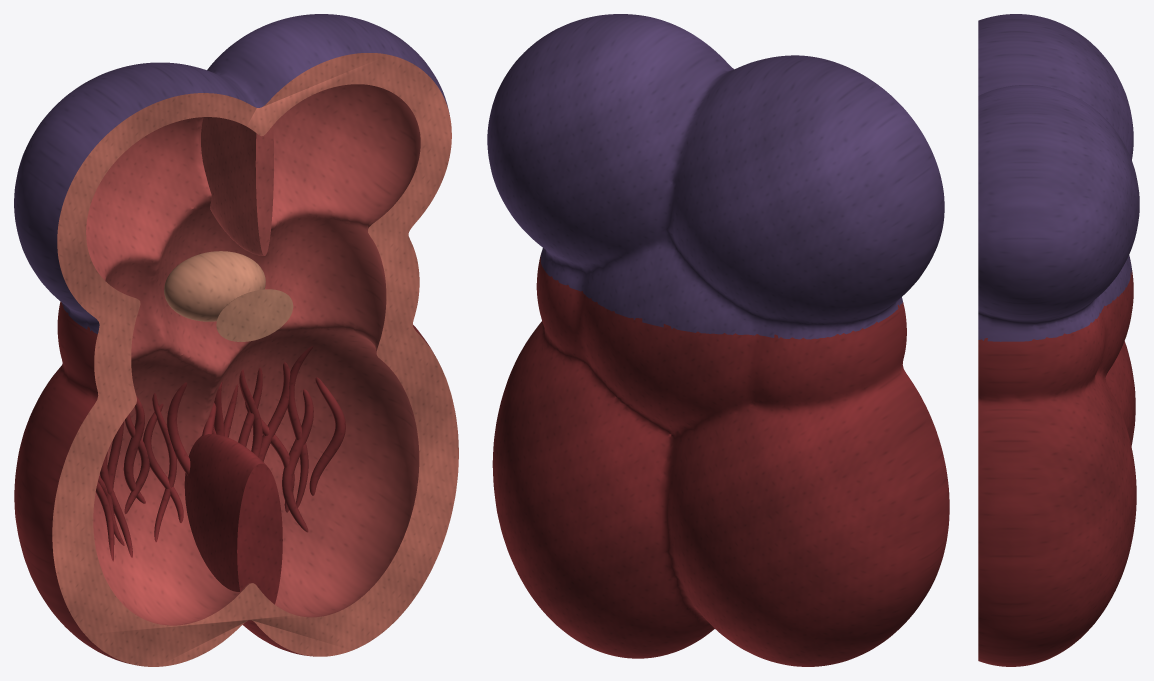
File: HeartPartition_01_Week04_EarlyPartitioning_Cutaway.glb
3 renders of one model, left to right at view 1: azimuth 30°, elevation 25°; view 2: azimuth 150°, elevation 25°; view 3: azimuth 270°, elevation 25°, orthographic. The views are drawn at different scales.
Parts seen in each view (by area): view 1: VentricularWall_Posterior, AtrialWall_Posterior, MuscularInterventricularSeptum, SeptumPrimum, DorsalEndocardialCushion, VentralEndocardialCushion, LV_Trabecula_11, LV_Trabecula_06, LV_Trabecula_05, RV_Trabecula_11, RV_Trabecula_10, RV_Trabecula_05 (+6 smaller); view 2: VentricularWall_Posterior, AtrialWall_Posterior; view 3: VentricularWall_Posterior, AtrialWall_Posterior.
Part boxes in pixels (<box>): VentricularWall_Posterior: <box>14,236,458,666</box>; AtrialWall_Posterior: <box>14,14,451,336</box>; MuscularInterventricularSeptum: <box>184,434,282,604</box>; SeptumPrimum: <box>201,117,273,255</box>; DorsalEndocardialCushion: <box>164,251,265,321</box>; VentralEndocardialCushion: <box>216,289,293,341</box>; LV_Trabecula_11: <box>282,389,313,532</box>; LV_Trabecula_06: <box>309,377,345,495</box>; LV_Trabecula_05: <box>287,346,313,507</box>; RV_Trabecula_11: <box>152,393,176,542</box>; RV_Trabecula_10: <box>123,396,145,503</box>; RV_Trabecula_05: <box>143,403,183,522</box>; VentricularWall_Posterior: <box>492,257,949,666</box>; AtrialWall_Posterior: <box>487,14,944,342</box>; VentricularWall_Posterior: <box>978,272,1136,666</box>; AtrialWall_Posterior: <box>978,14,1139,344</box>.
Bounding box in the file's own units: 0.1421 × 0.2013 × 0.0525.
Materials: 5 (5 with a texture image).
